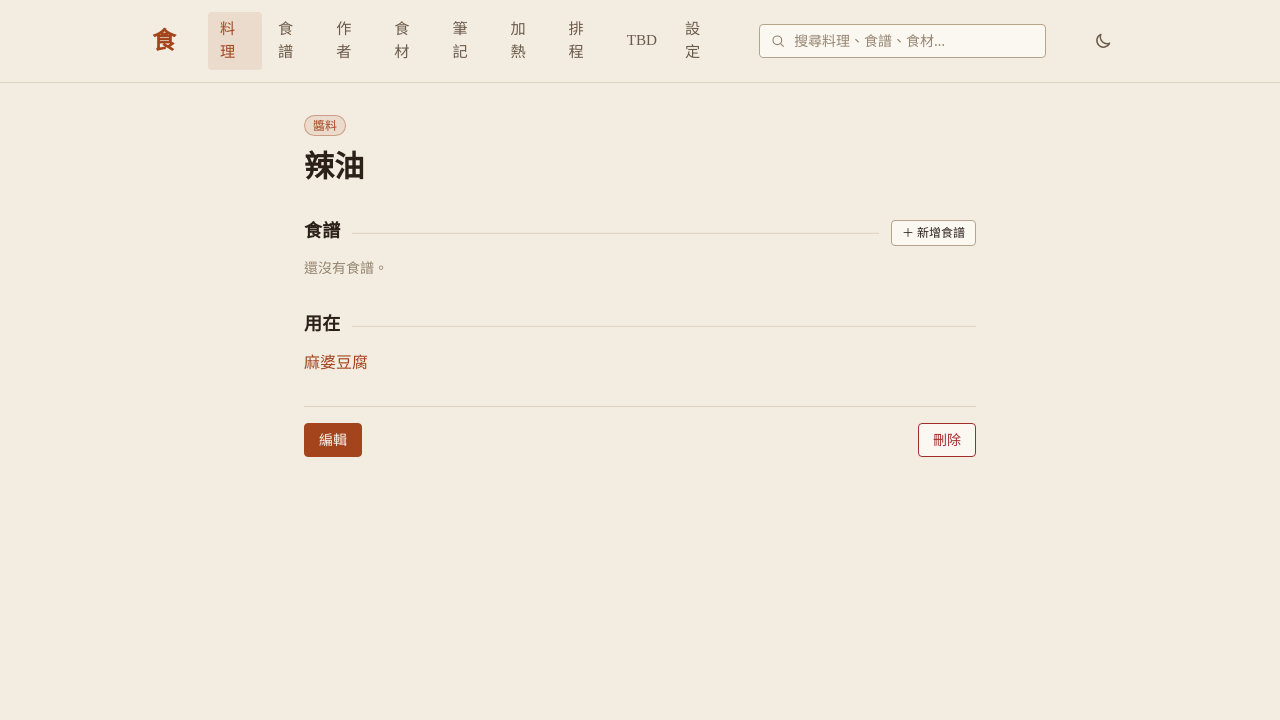
the dish page › says the ingredients that lose their link when it is deleted, and still deletes
This screenshot has width=1280, height=720.
Click the button "刪除" at [947, 440], box x1=918 y1=423 x2=976 y2=457
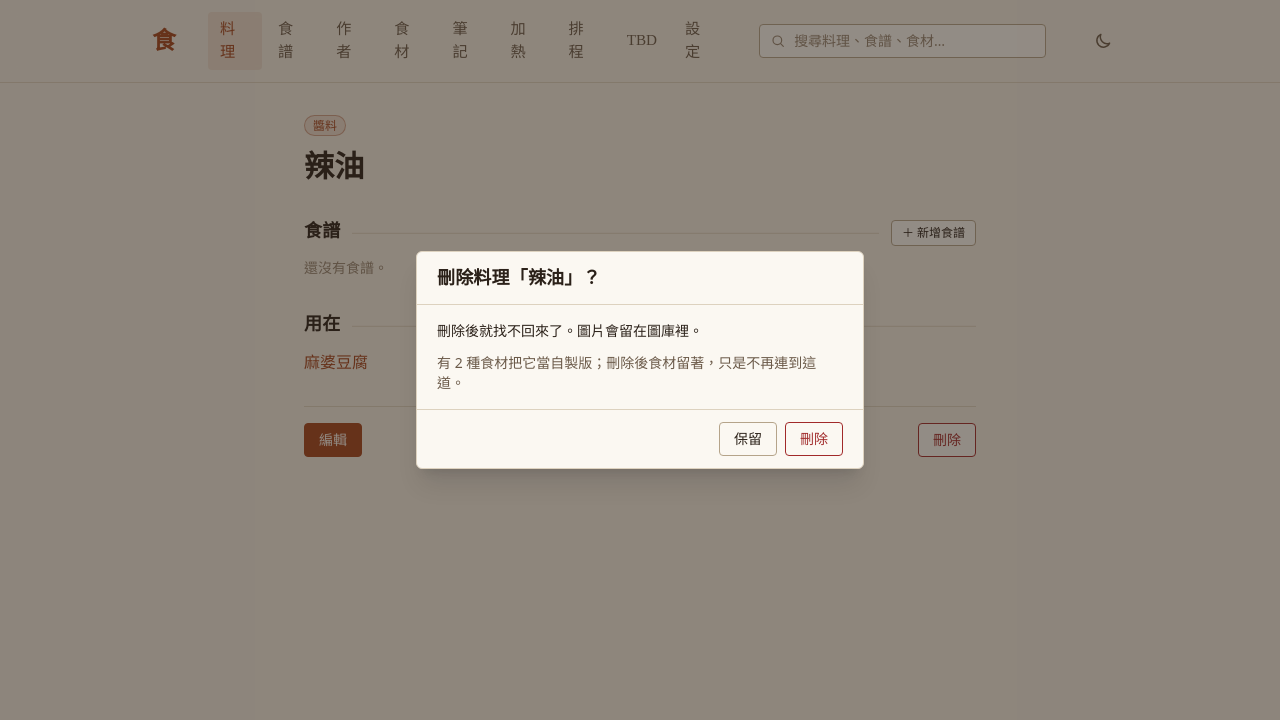
Check: the text "有 2 種食材把它當自製版；刪除後食材留著，只是不再連到這道。" is shown, box x1=437 y1=353 x2=843 y2=393
Click the button "刪除" at [814, 439], box x1=785 y1=422 x2=843 y2=456
(page scrolled)
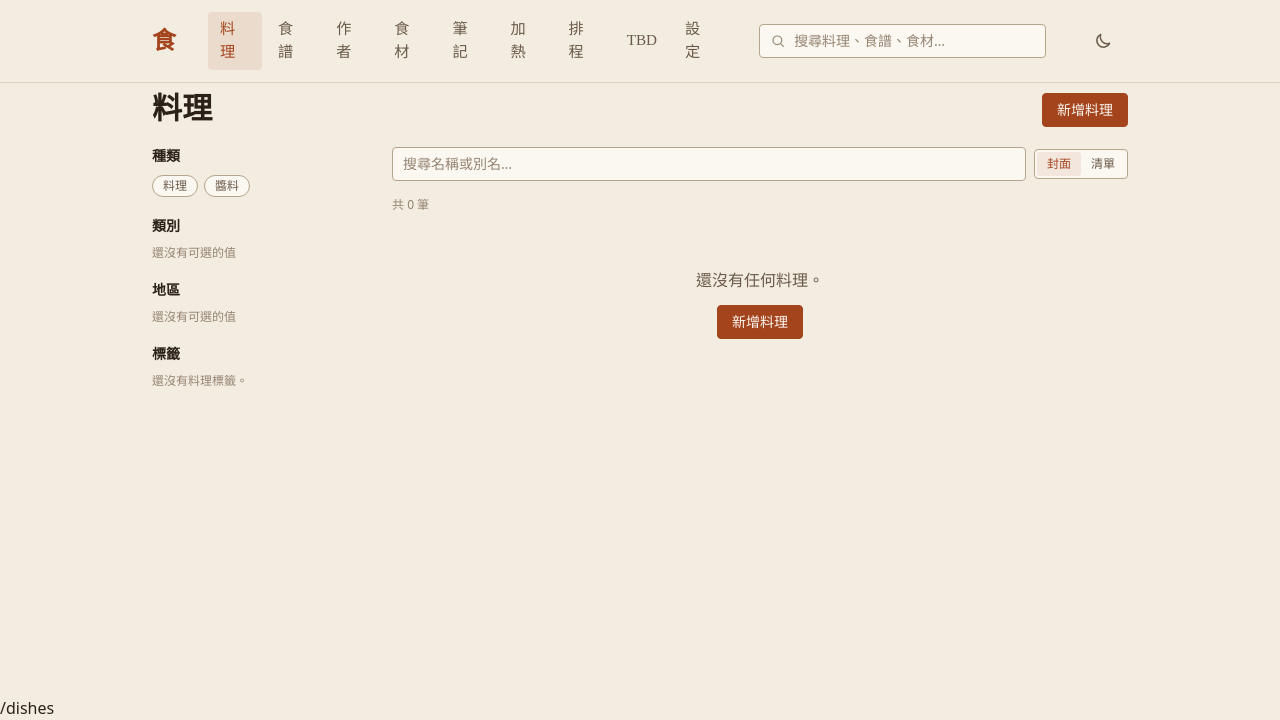
Check: the text with test id "location" reads "/dishes", box x1=0 y1=697 x2=54 y2=719
